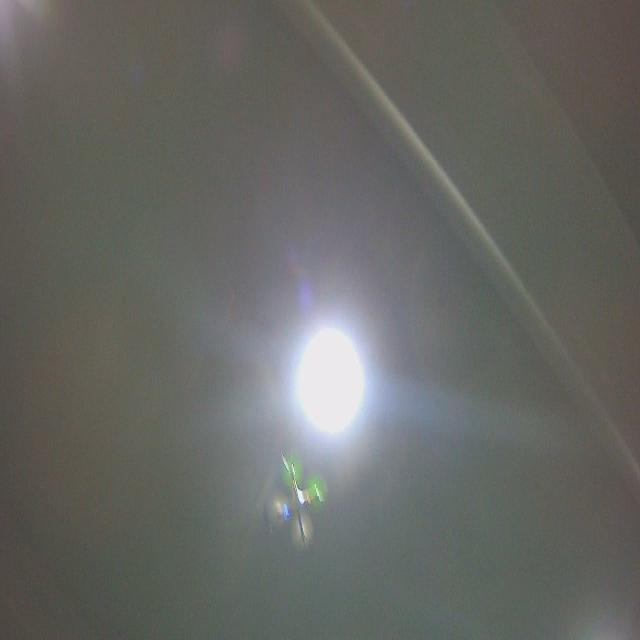drone: (263, 444, 333, 558)
